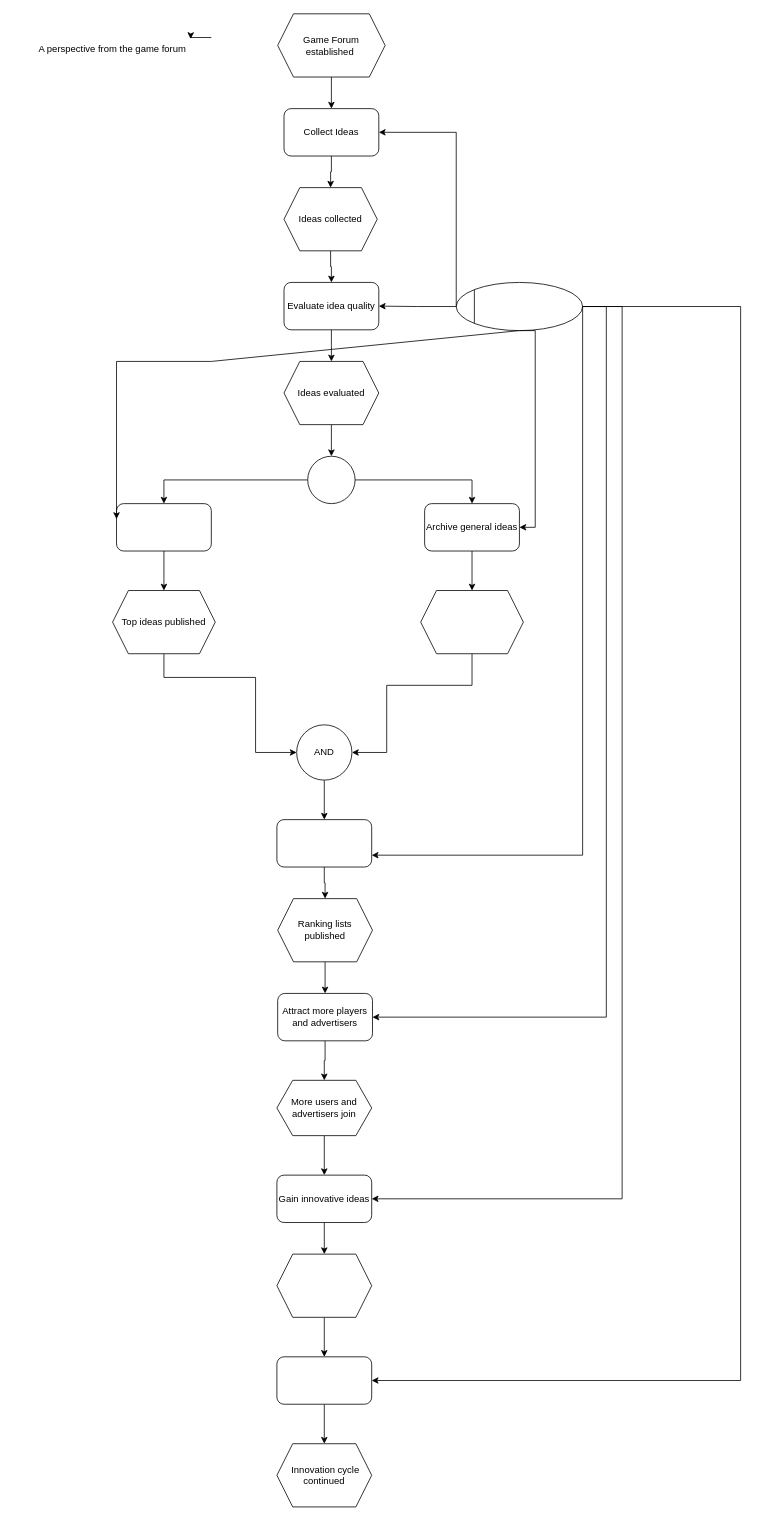
The diagram is 761 pixels wide and 1521 high, and some of its shapes have lost their labels. Each missing label, with the centre of its shape:
General ideas archived: the point at 471,622
Inovation Dept.: the point at 519,306
Revenue and new ideas increased: the point at 324,1285
Reward and publish top ideas: the point at 163,527
Sponsor company utilizes ideas and marketing benefits: the point at 324,1380
Update player ranking lists: the point at 324,843
XOR: the point at 331,479
